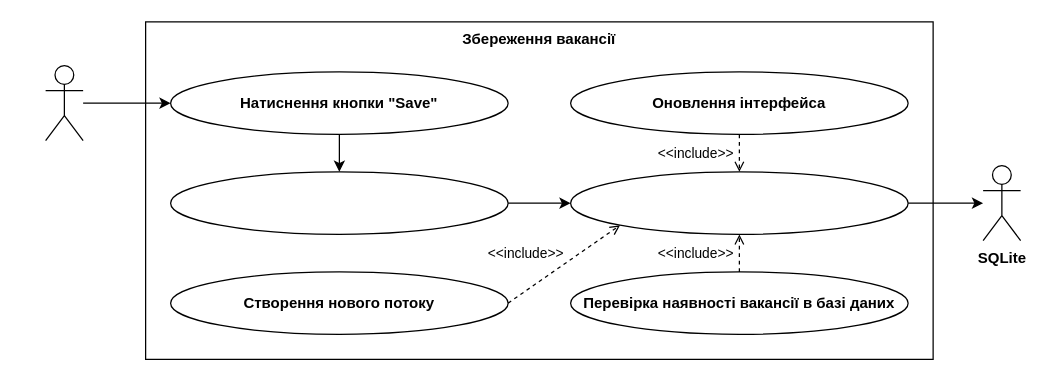
The diagram is 1048 pixels wide and 381 high, and some of its shapes have lost their labels. Here are the shapes that lost their labels. From the top down, the centre of each, then its label:
[63,102]: Користувач
[338,202]: Отримання екземпляру бази даних
[738,202]: Додавання вакансії до бази даних
